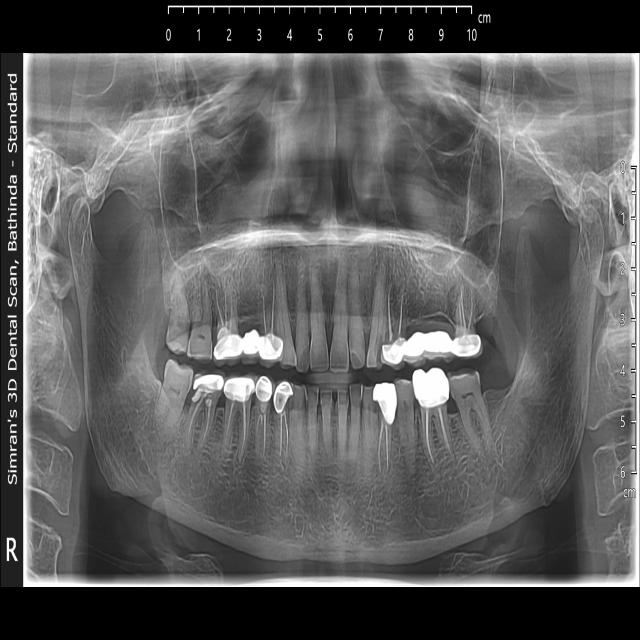Caries: (166, 317, 191, 352), (366, 330, 387, 365)
Crown: (384, 331, 483, 367), (214, 331, 284, 363), (412, 366, 448, 408), (375, 380, 395, 426), (196, 373, 223, 394), (225, 377, 252, 397), (256, 376, 274, 402), (279, 386, 293, 412)
Missing teeth: (413, 281, 448, 328)
Periapical lesion: (201, 267, 221, 305)
Root Canal Treatment: (414, 366, 453, 468), (182, 373, 223, 461), (211, 274, 243, 364), (222, 377, 253, 467), (372, 381, 398, 480), (382, 277, 408, 365), (258, 265, 281, 364), (456, 281, 482, 356), (251, 376, 272, 464), (273, 378, 290, 464)
